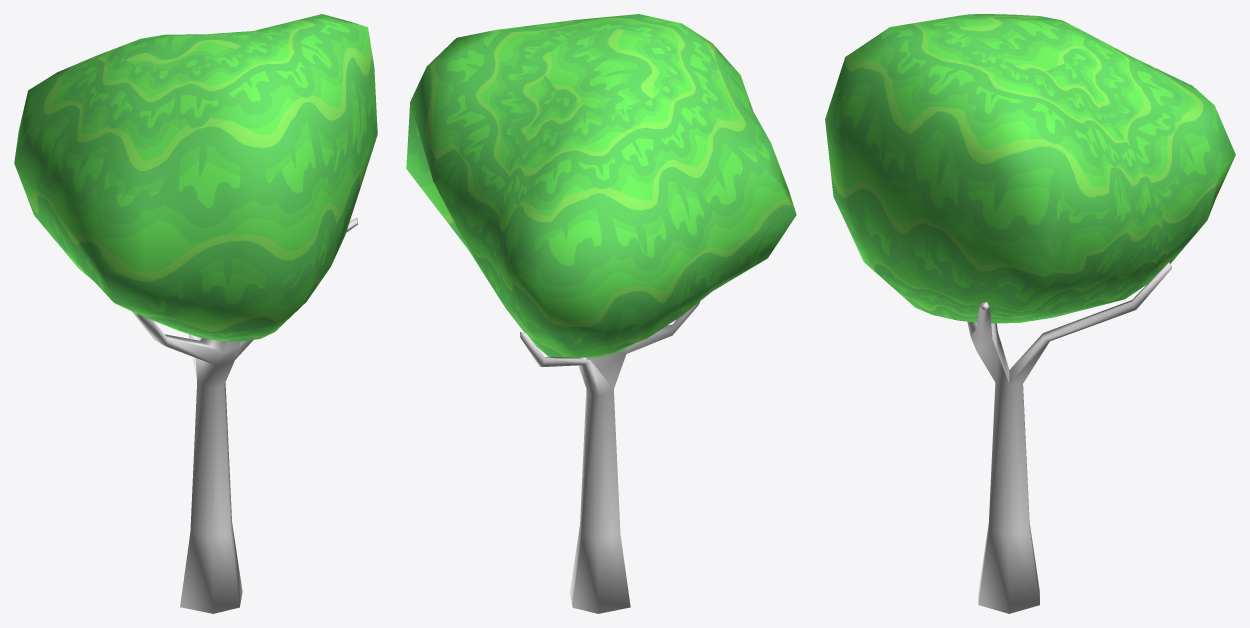
File: P_Tree_2.fbx
3 views of the same model, side by side, from view 1: azimuth 30°, elevation 25°; view 2: azimuth 150°, elevation 25°; view 3: azimuth 270°, elevation 25° (orthographic). The views are drawn at different scales.
Visible parts, largest first — view 1: Sphere.001, Cube; view 2: Sphere.001, Cube; view 3: Sphere.001, Cube.
Part boxes in pixels (x1,y1,x2,y2): Sphere.001: (14, 14, 377, 341); Cube: (131, 218, 357, 613); Sphere.001: (406, 14, 796, 357); Cube: (520, 301, 699, 613); Sphere.001: (825, 14, 1235, 323); Cube: (967, 262, 1171, 613).
Bounding box in the file's own units: 4.17 × 6.79 × 4.42.
